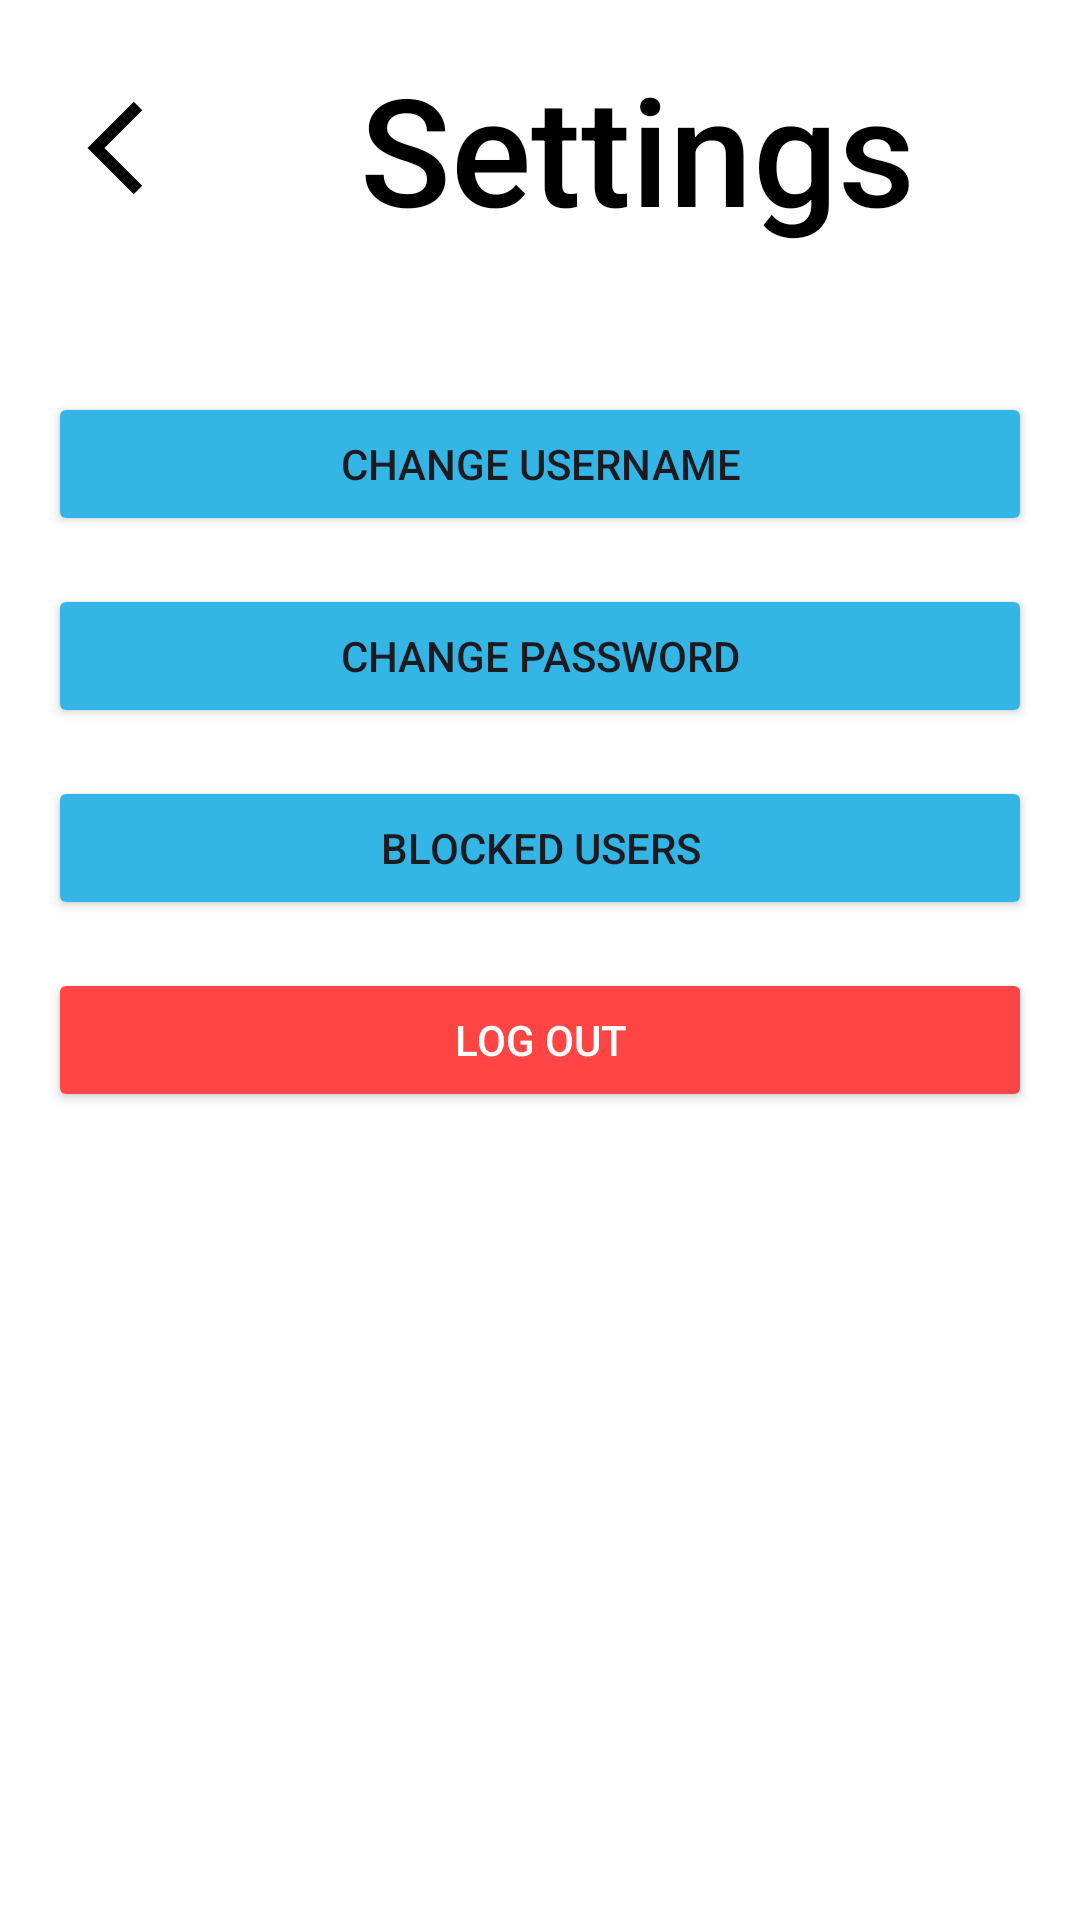

Icons on this 1080px×1920px Android screen, each with its box as bbox=(x1, y1, x2, y2):
Back Button: bbox=(87, 102, 142, 194)
